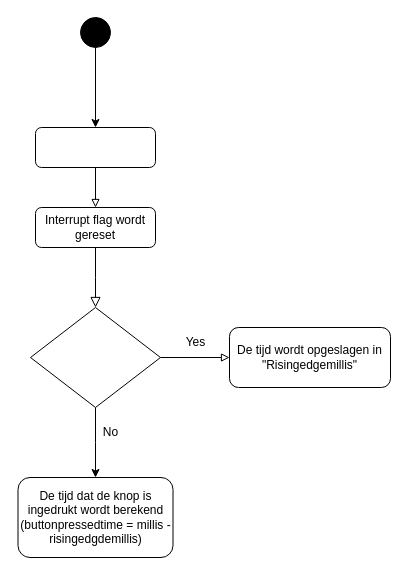
This 408x575 diagram has some shape labels left out. The shapes that lost their labels are listed below. From the top down, each one's centre as x and y in pixels, then its label:
the point at 95,147: Interrupt getriggered
the point at 95,357: Is de knop ingedrukt?
